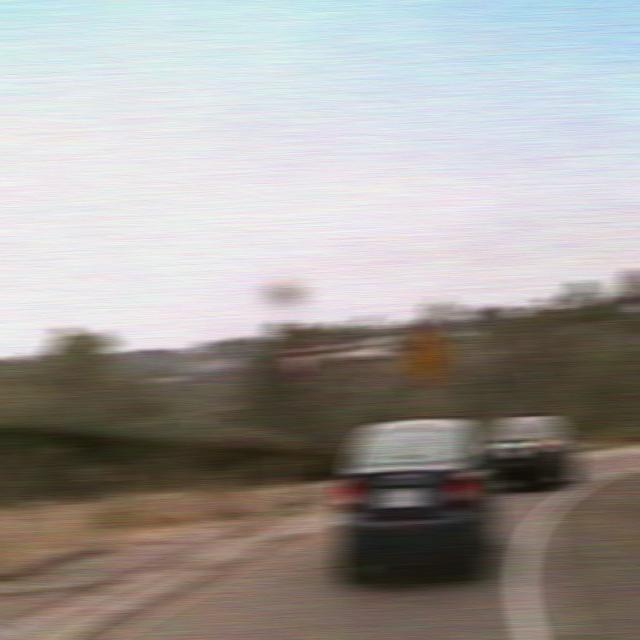yield: (276, 344, 319, 387)
